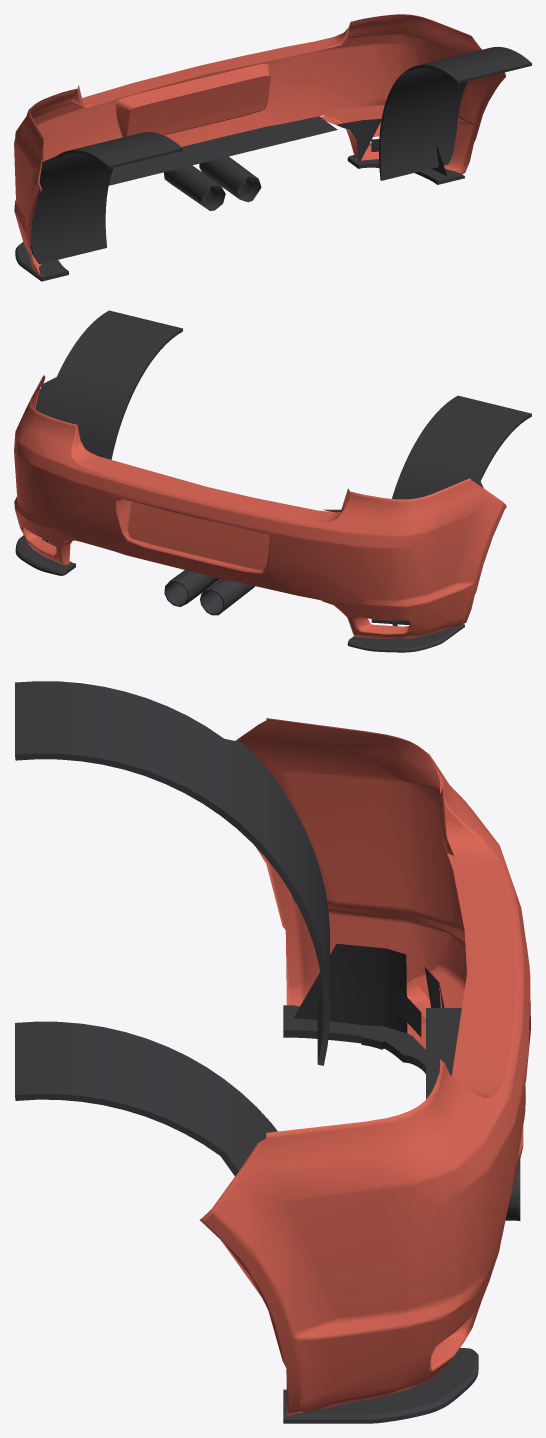
Rendered from wendtStrom_rearBumper_trackBase.glb.
3 views of the same model, one above another, from view 1: azimuth 30°, elevation 25°; view 2: azimuth 150°, elevation 25°; view 3: azimuth 270°, elevation 25° (orthographic). The views are drawn at different scales.
Visible parts, largest first — view 1: rearBumper_trackBase; view 2: rearBumper_trackBase; view 3: rearBumper_trackBase.
Boxes of the visible parts, box(x1,y1,x2,y2) form: rearBumper_trackBase: box(14, 14, 531, 281); rearBumper_trackBase: box(14, 310, 531, 652); rearBumper_trackBase: box(15, 681, 530, 1423).
Size of the model in its own units: 1.7 by 0.5738 by 0.8139.
